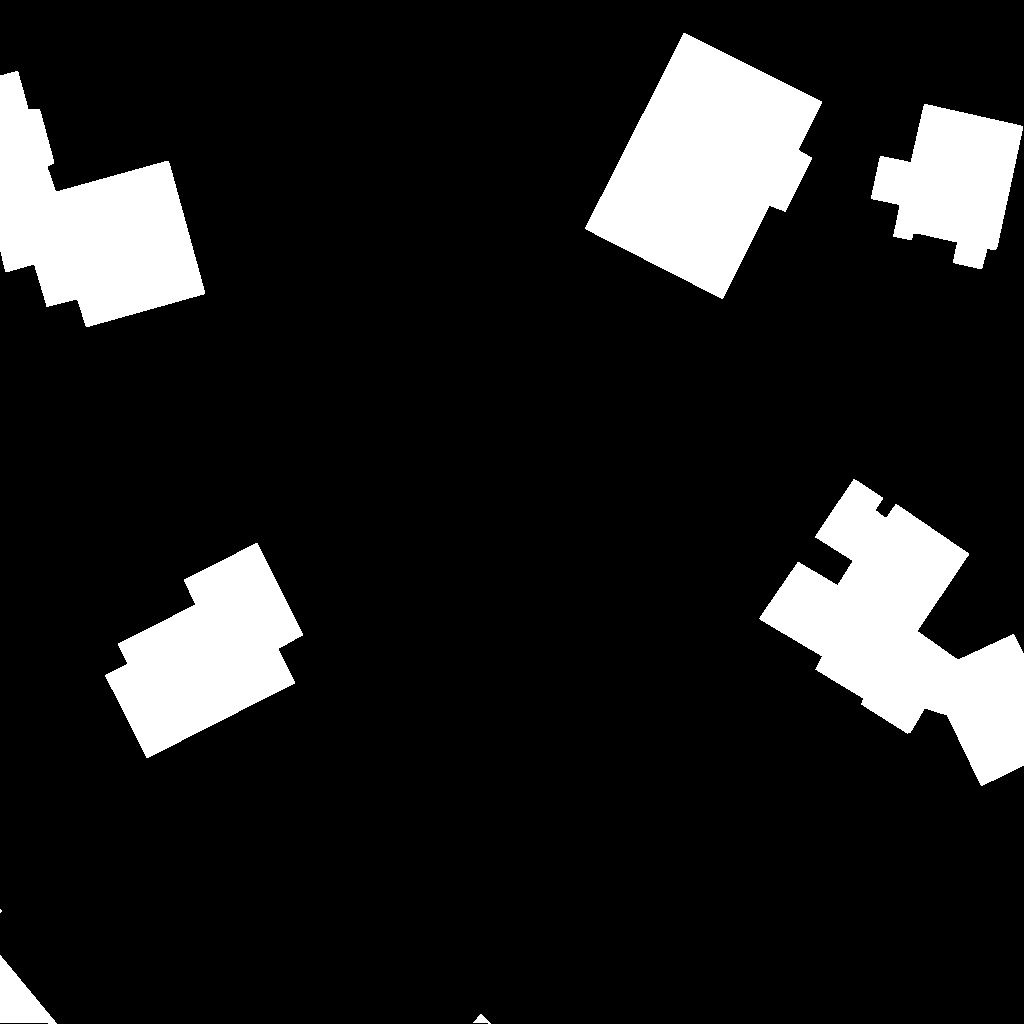building: (759, 479, 1024, 787), (585, 33, 823, 300), (0, 71, 206, 328), (105, 543, 304, 759), (871, 104, 1024, 270), (0, 909, 58, 1024), (473, 1014, 492, 1024)
